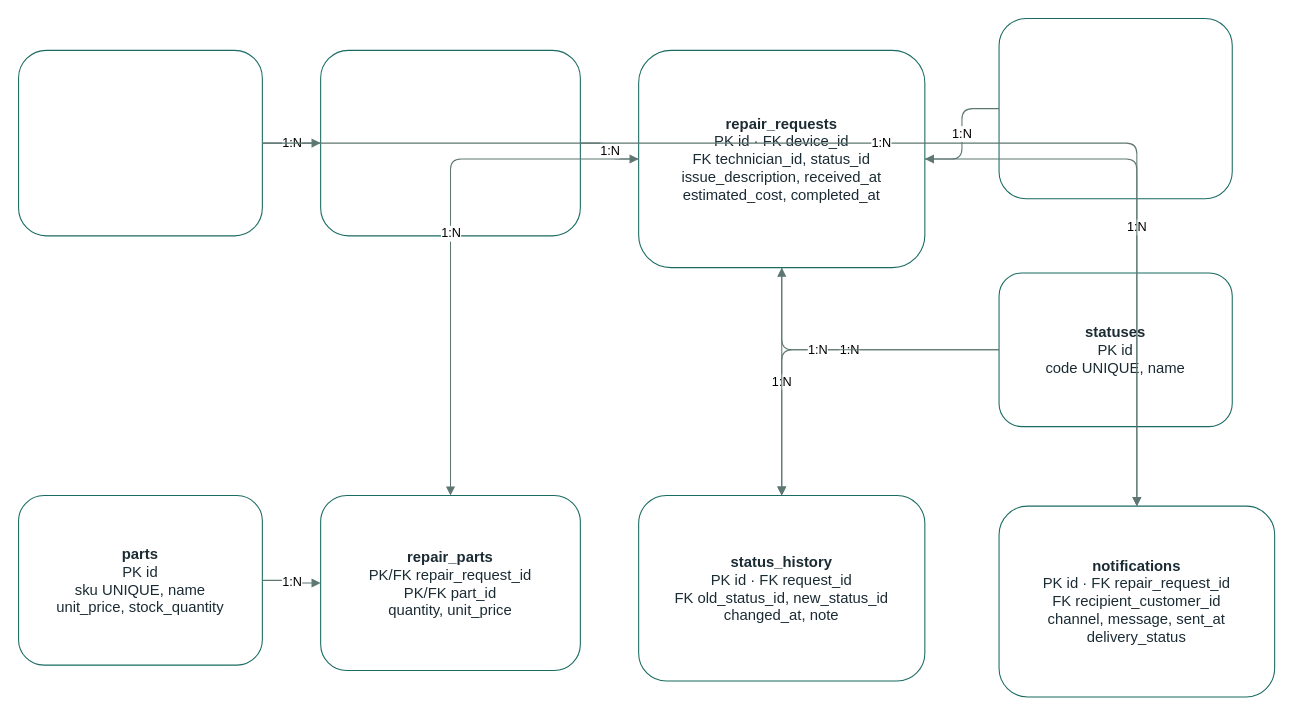
The diagram is 1293 pixels wide and 715 high, and some of its shapes have lost their labels. Here are the shapes that lost their labels. From the top down, the centre of each, then its label:
(1115,108): technicians PK id full_name, phone, email is_active
(139,142): customers PK id INTEGER full_name, phone UNIQUE email, created_at
(450,142): devices PK id · FK customer_id device_type, brand, model serial_number
